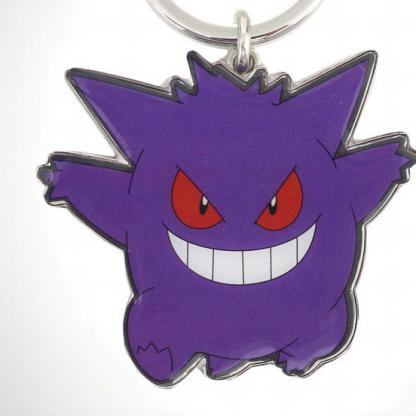Gengar: (17, 57, 404, 388)
